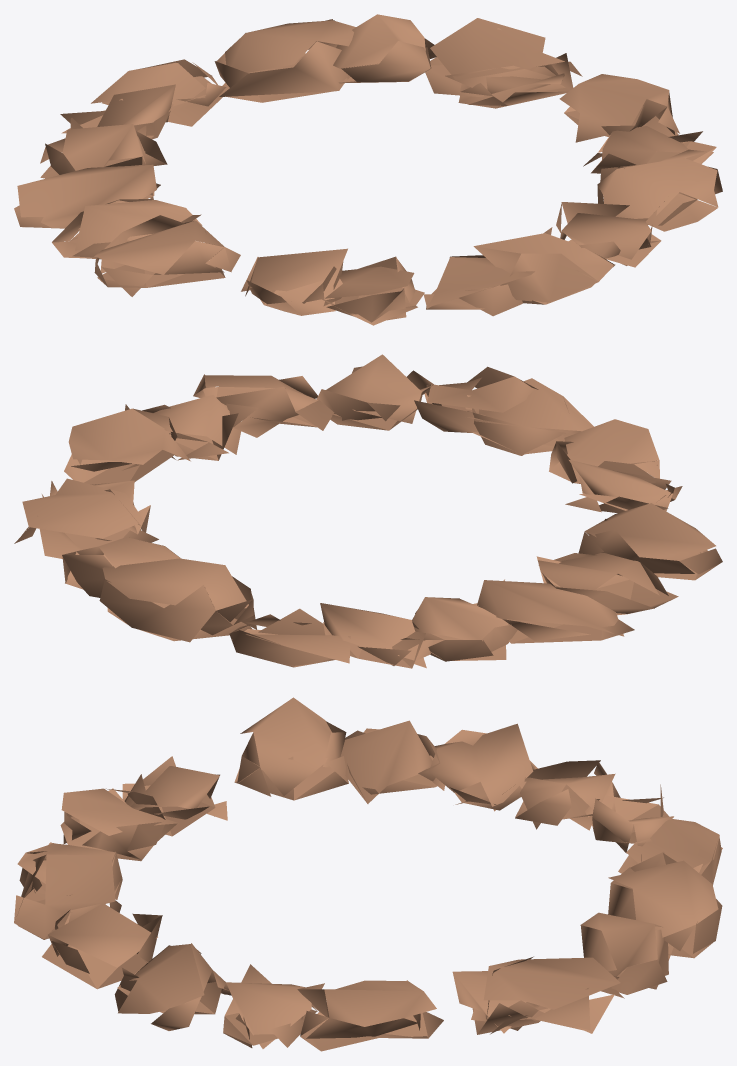
The model's file is mars-crater-rim-lod1.glb.
3 views of the same model, one above another, from view 1: azimuth 30°, elevation 25°; view 2: azimuth 150°, elevation 25°; view 3: azimuth 270°, elevation 25° (orthographic). The views are drawn at different scales.
Parts seen in each view (by area): view 1: mars-crater-rim; view 2: mars-crater-rim; view 3: mars-crater-rim.
Part boxes in pixels (<box>): mars-crater-rim: <box>14,14,722,325</box>; mars-crater-rim: <box>14,354,722,668</box>; mars-crater-rim: <box>14,697,722,1051</box>.
Bounding box in the file's own units: 24.96 × 2.23 × 23.13.
